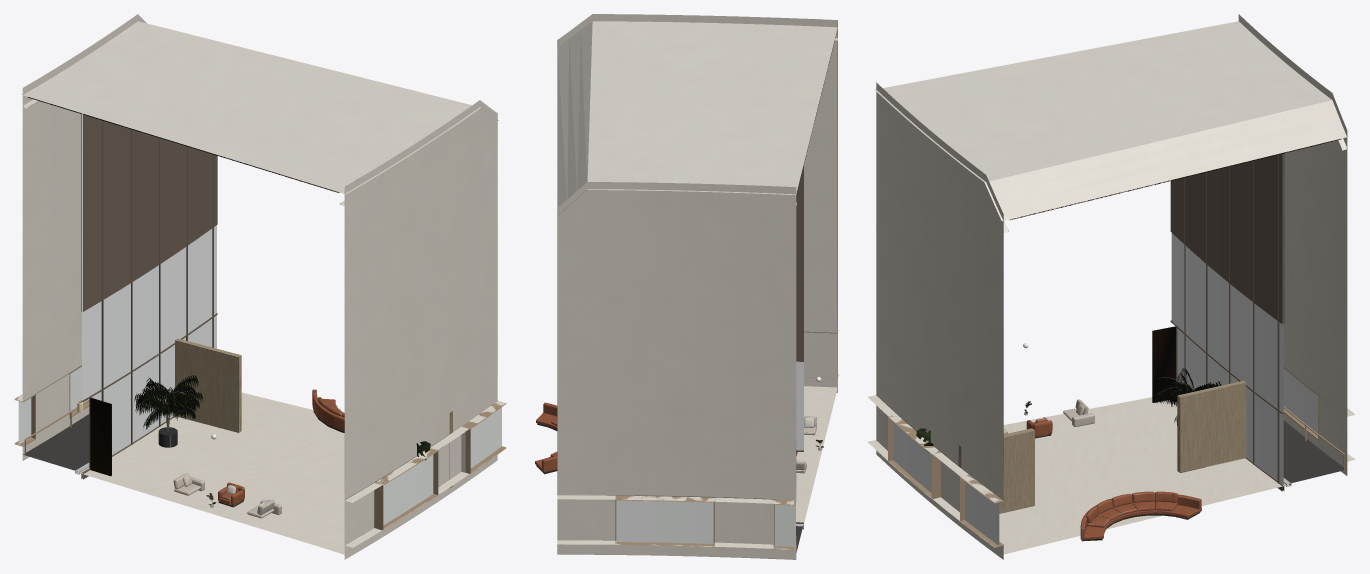
The picture shows the model from 3 angles, left to right: view 1: azimuth 30°, elevation 25°; view 2: azimuth 150°, elevation 25°; view 3: azimuth 270°, elevation 25°; orthographic projection.
Parts seen in each view (by area): view 1: c1500, c1500 leaves; view 2: c1500; view 3: c1500, c1500 leaves.
Part boxes in pixels (x1,y1,x2,y2): c1500: (14,14,506,559); c1500 leaves: (28,97,430,504); c1500: (535,14,838,559); c1500: (867,14,1355,559); c1500 leaves: (916,138,1341,452).
Size of the model in its own units: 21.2 by 20.7 by 24.63.
Materials: 11 (1 with a texture image).
